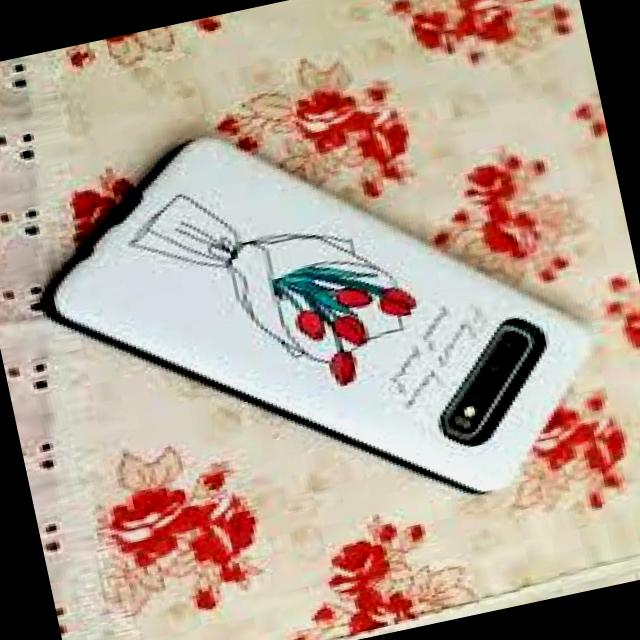lens_back: (496, 331, 523, 358), (470, 378, 493, 406), (482, 357, 504, 379)
phone: (6, 61, 628, 581)
